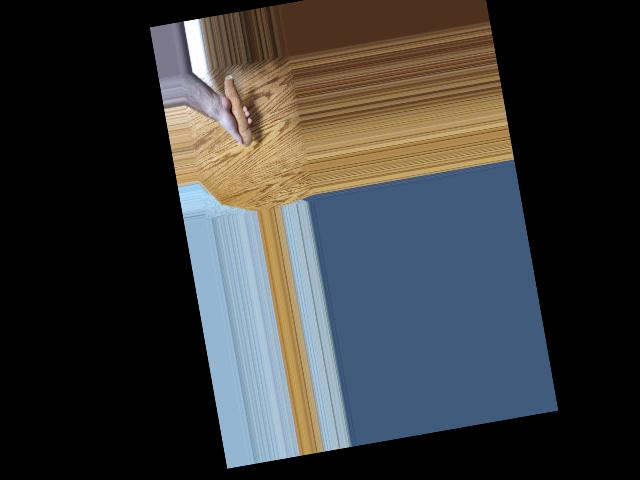sweet_potato: (220, 73, 256, 147)
